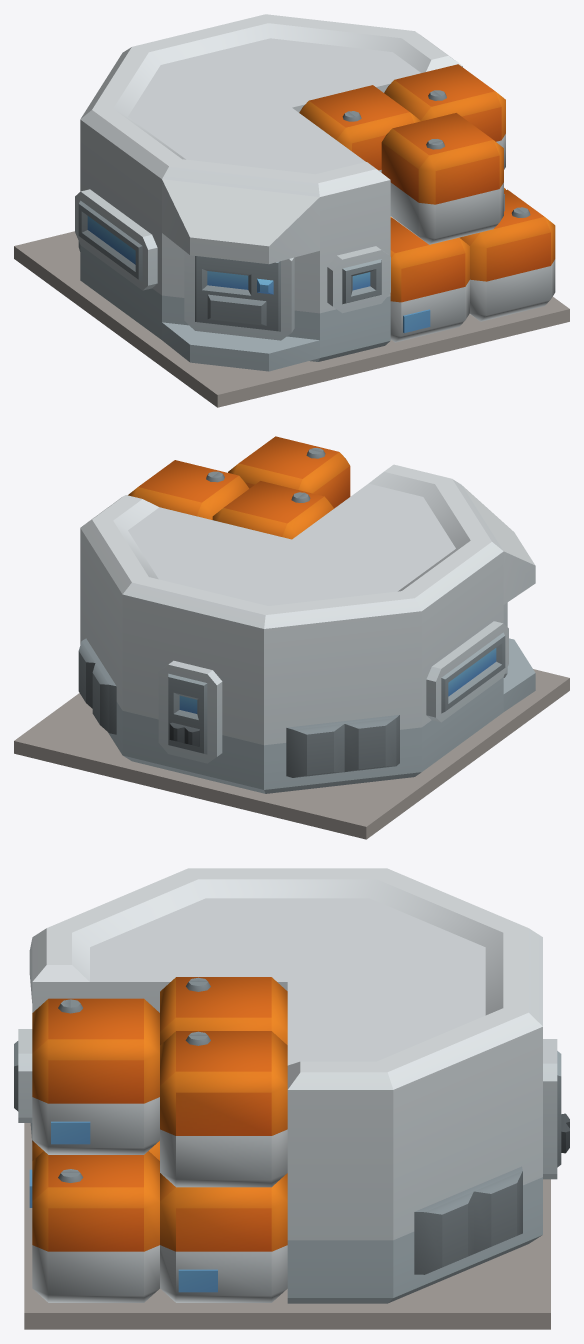
File: cargo_depot_large.glb
The picture shows the model from 3 angles, top to bottom: view 1: azimuth 30°, elevation 25°; view 2: azimuth 150°, elevation 25°; view 3: azimuth 270°, elevation 25°; orthographic projection. The views are drawn at different scales.
Parts seen in each view (by area): view 1: Cargodepot_Large; view 2: Cargodepot_Large; view 3: Cargodepot_Large.
Part boxes in pixels (x1,y1,x2,y2): Cargodepot_Large: (14, 14, 569, 407); Cargodepot_Large: (14, 436, 569, 839); Cargodepot_Large: (14, 868, 569, 1329).
Size of the model in its own units: 0.2958 by 0.1534 by 0.3062.
1 material, 1 textured.
